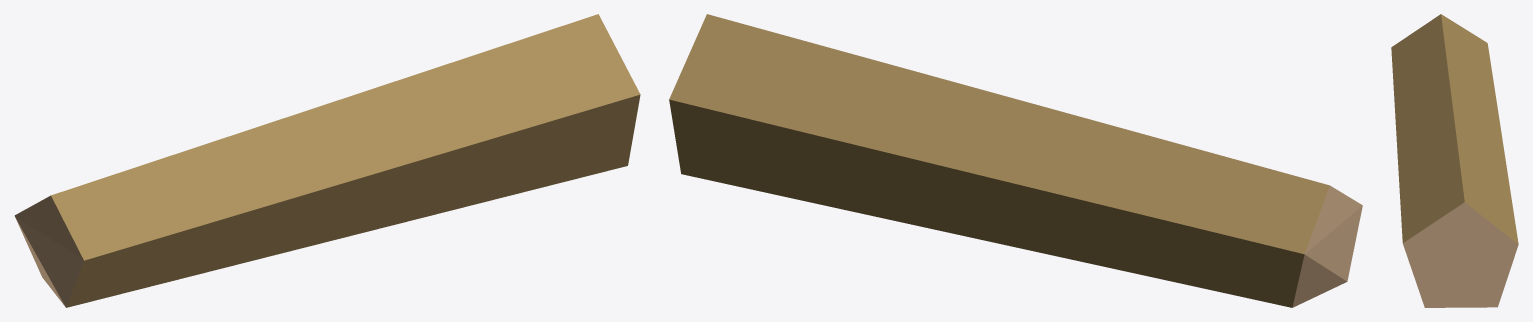
The model's file is Oak_Log_02_LOD.fbx.
The picture shows the model from 3 angles, left to right: view 1: azimuth 30°, elevation 25°; view 2: azimuth 150°, elevation 25°; view 3: azimuth 270°, elevation 25°; orthographic projection. The views are drawn at different scales.
Visible parts, largest first — view 1: Oak_Log_02_LOD0; view 2: Oak_Log_02_LOD0; view 3: Oak_Log_02_LOD0.
Boxes of the visible parts, x1,y1,x2,y2 form: Oak_Log_02_LOD0: [14, 14, 640, 307]; Oak_Log_02_LOD0: [669, 14, 1362, 307]; Oak_Log_02_LOD0: [1391, 14, 1518, 307].
Size of what is drawn, in the model's own units: 154 by 34.39 by 38.05.
